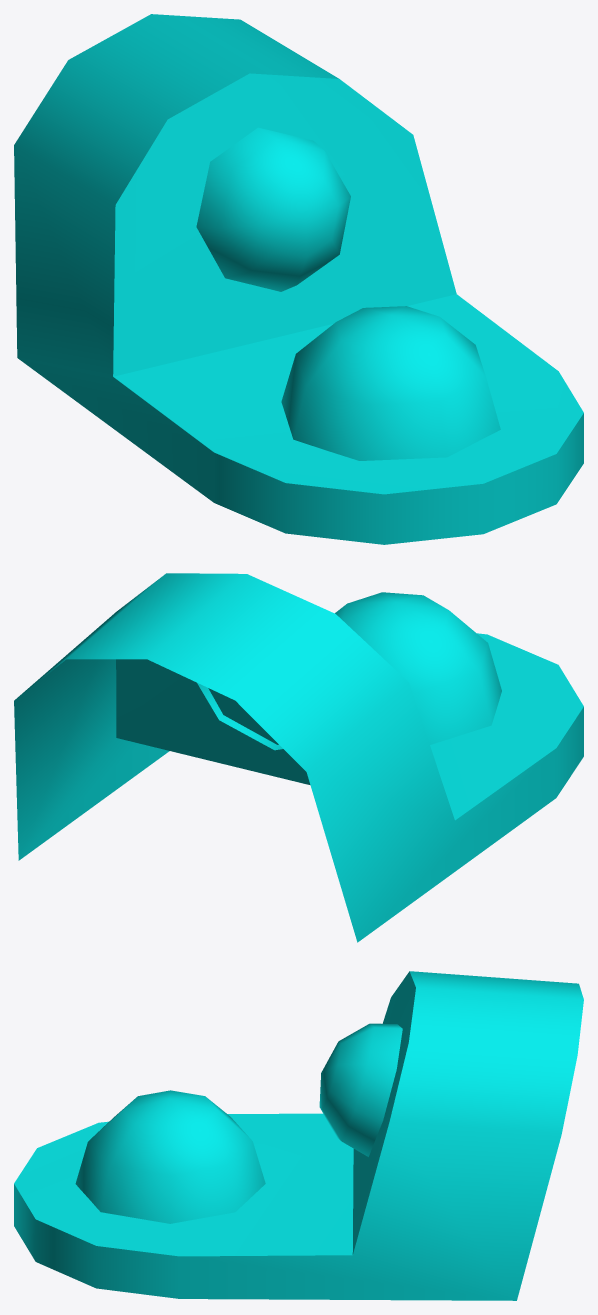
Rendered from build_prop_Strut_05.fbx.
The picture shows the model from 3 angles, top to bottom: view 1: azimuth 30°, elevation 25°; view 2: azimuth 150°, elevation 25°; view 3: azimuth 270°, elevation 25°; orthographic projection. The views are drawn at different scales.
Parts seen in each view (by area): view 1: build_prop_Strut_05; view 2: build_prop_Strut_05; view 3: build_prop_Strut_05.
Part boxes in pixels (bbox=[...]): build_prop_Strut_05: bbox=[14, 14, 583, 544]; build_prop_Strut_05: bbox=[14, 573, 583, 942]; build_prop_Strut_05: bbox=[14, 971, 583, 1300].
Size of the model in its own units: 38.33 by 30.57 by 65.02.
